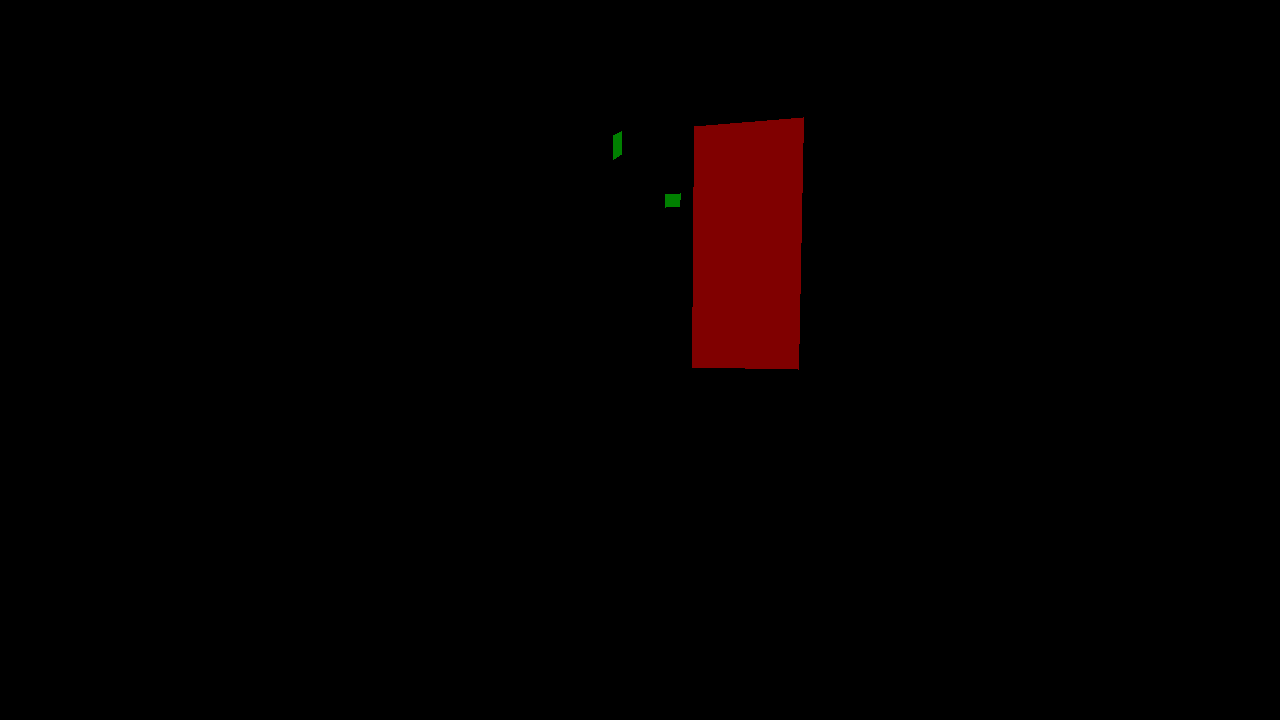door: (692, 117, 803, 369)
sign: (613, 131, 621, 159), (665, 193, 680, 207)
